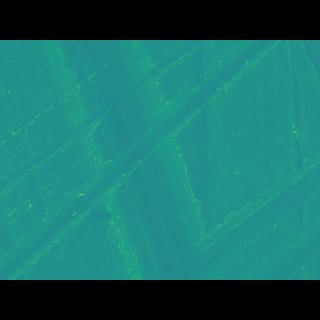Loch: (0, 69, 290, 250), (154, 151, 320, 251)
